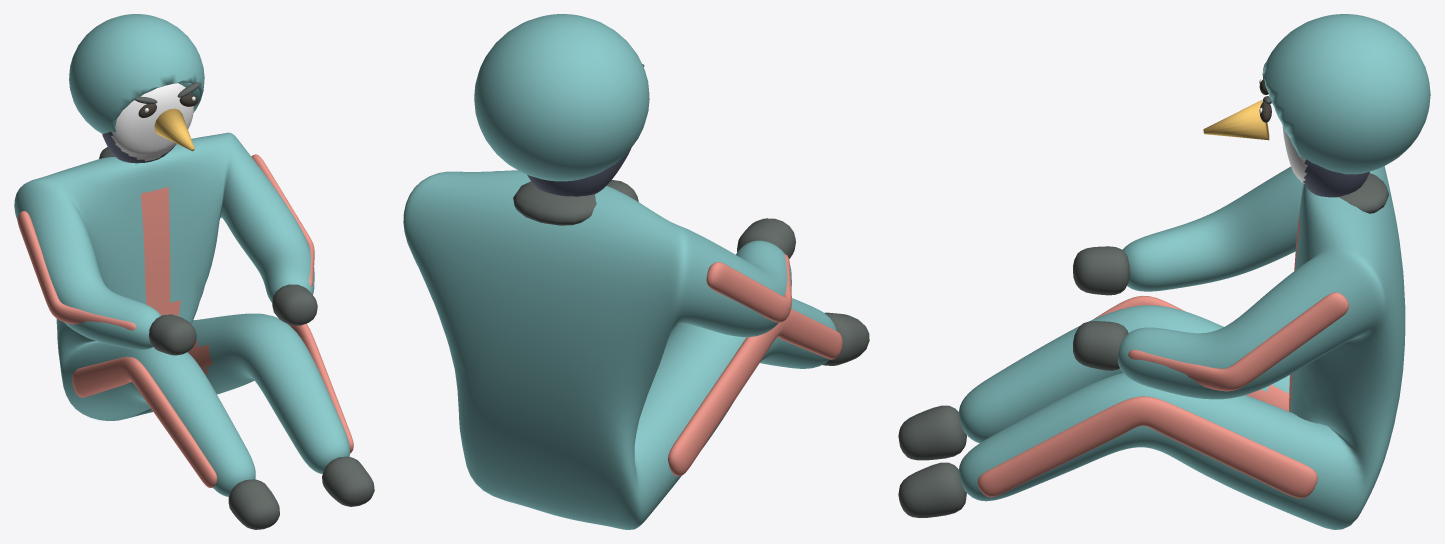
File: Penguin.fbx
3 views of the same model, side by side, from view 1: azimuth 30°, elevation 25°; view 2: azimuth 150°, elevation 25°; view 3: azimuth 270°, elevation 25° (orthographic). The views are drawn at different scales.
Parts seen in each view (by area): view 1: Pilot_penguin; view 2: Pilot_penguin; view 3: Pilot_penguin.
Boxes of the visible parts, left/top/right/bottom form: Pilot_penguin: left=14, top=14, right=374, bottom=529; Pilot_penguin: left=403, top=14, right=869, bottom=529; Pilot_penguin: left=898, top=14, right=1430, bottom=529.
Bounding box in the file's own units: 0.7332 × 1.04 × 1.04.
